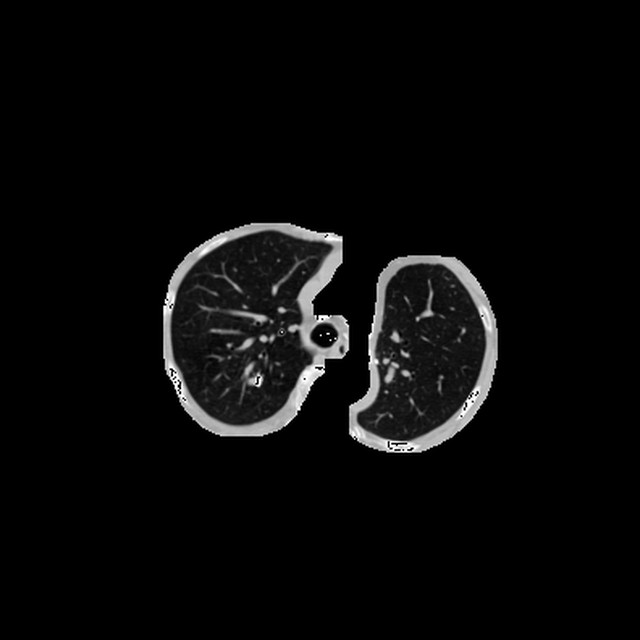PN: (247, 373, 260, 386)
